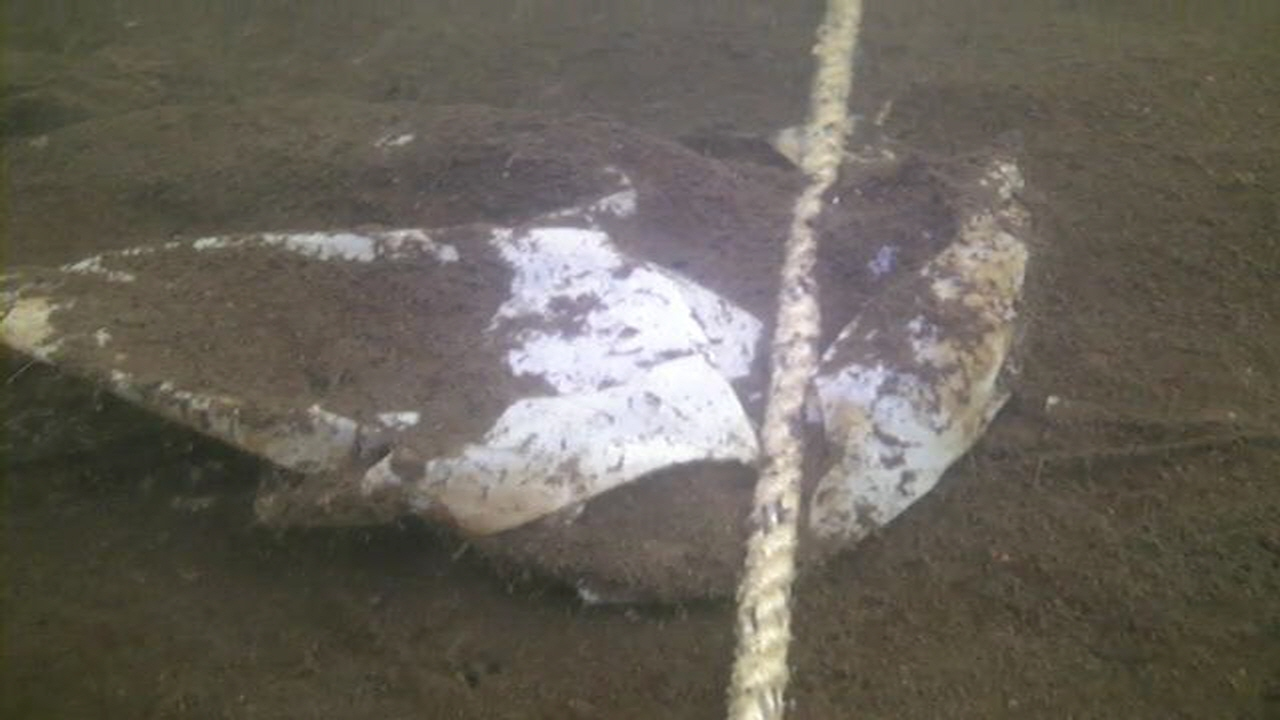rope: (722, 0, 864, 720)
